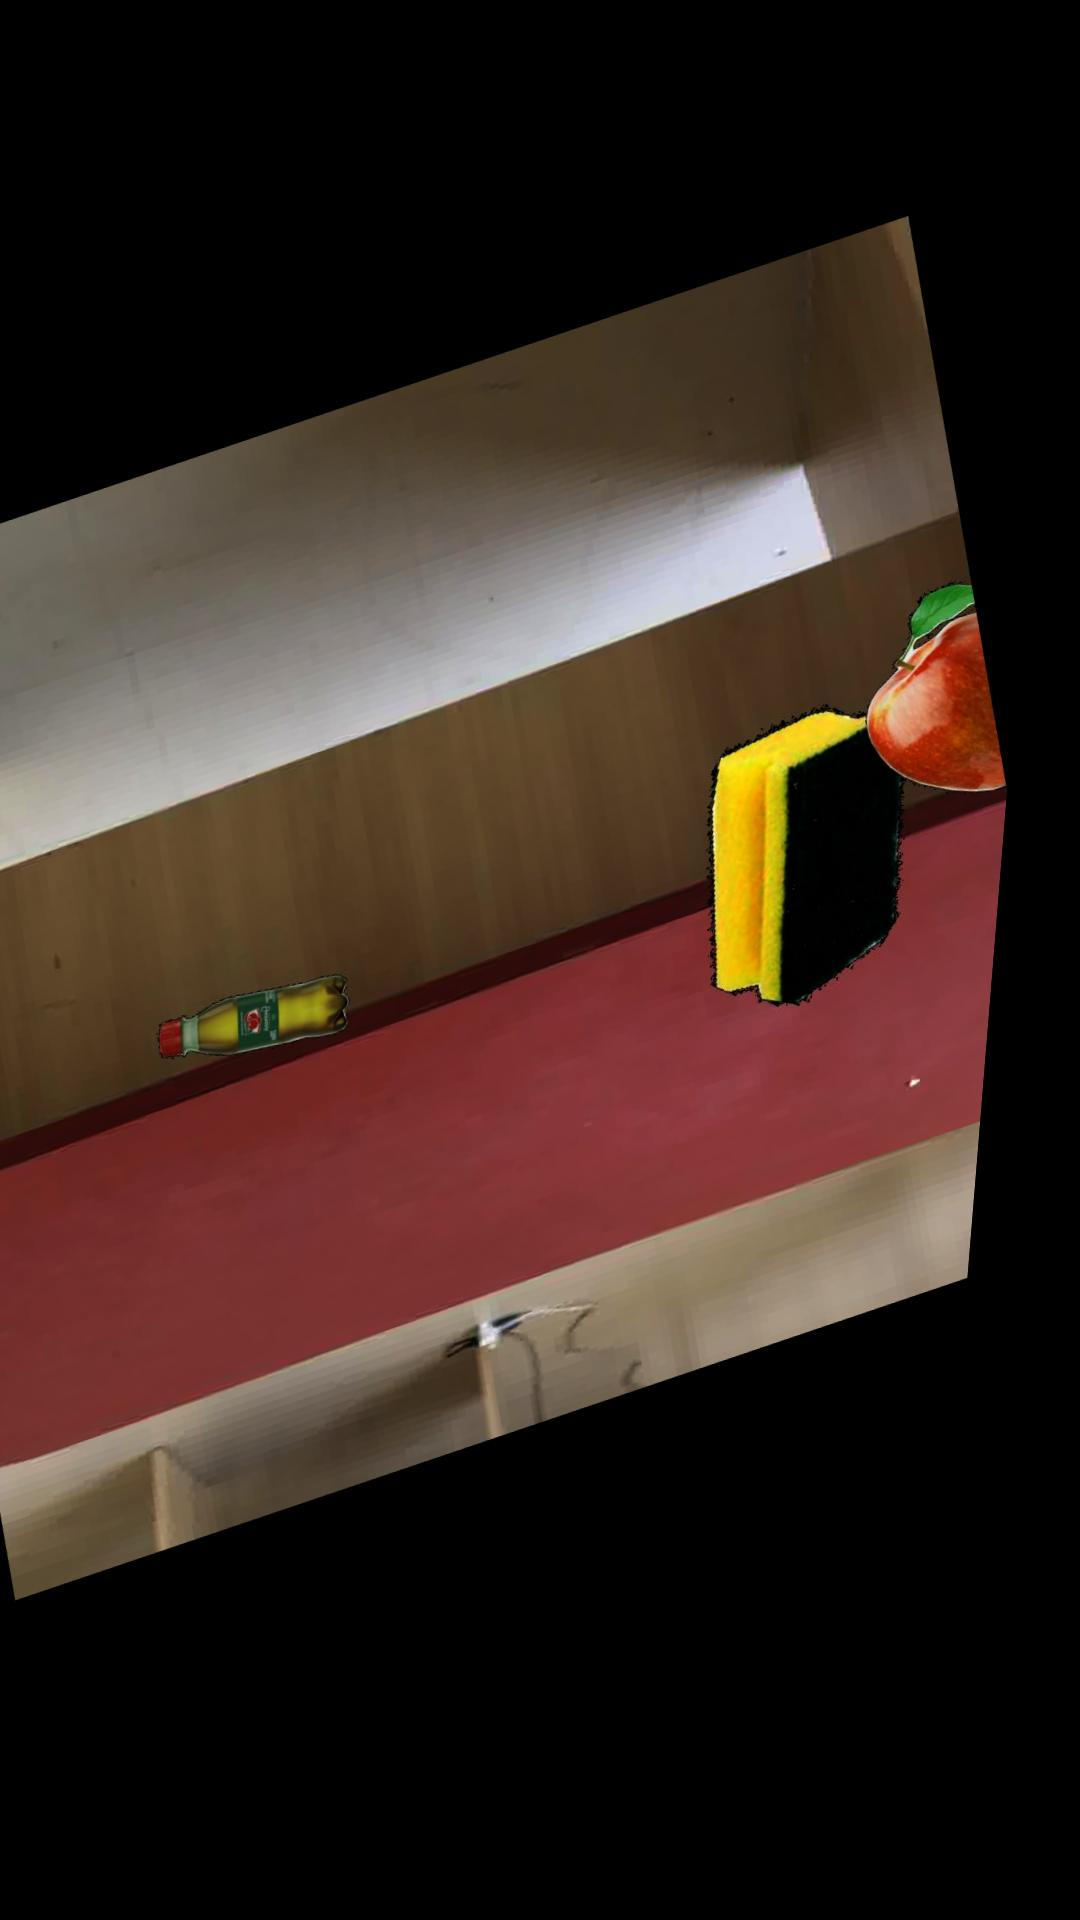apple: (880, 601, 1022, 814)
guarana: (177, 981, 368, 1062)
sponge: (723, 724, 920, 1022)
